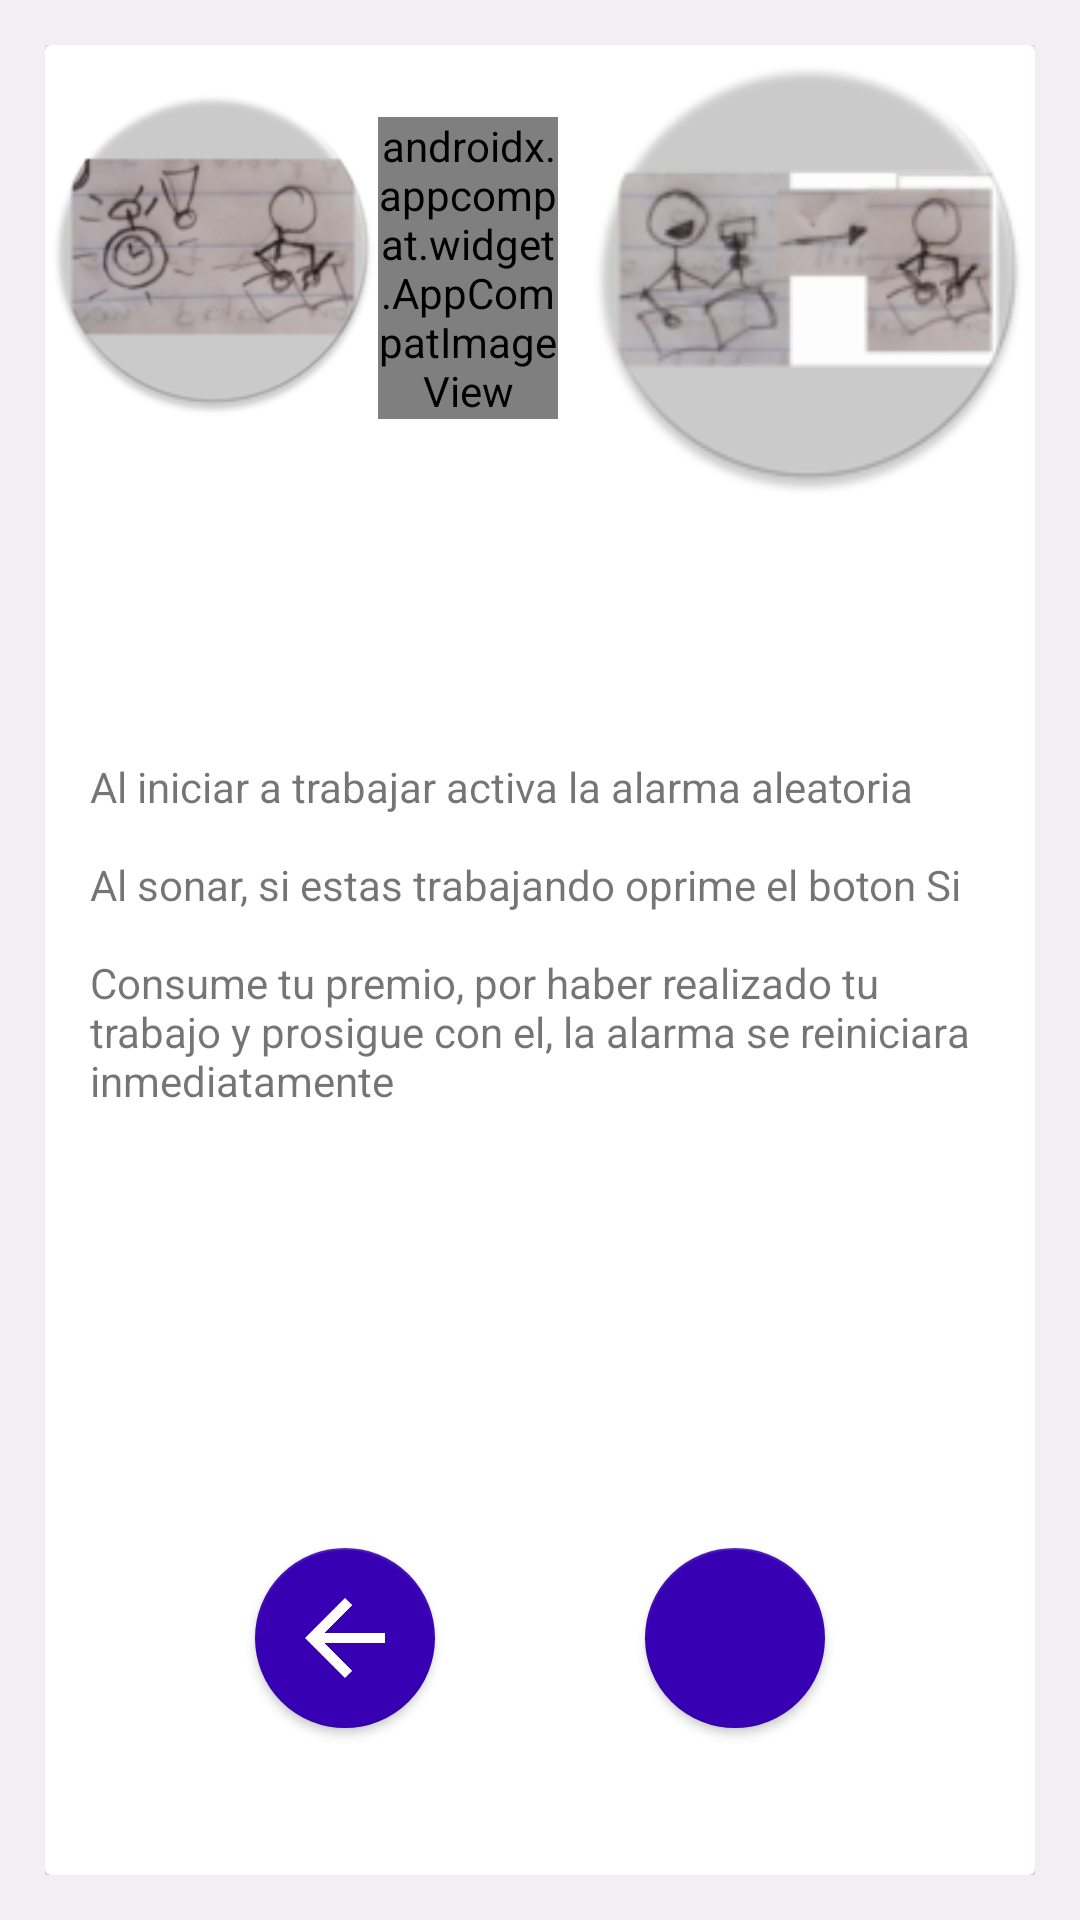

Point at icon controls on the screen. Image size 1080×1920, points as (x,y).
arrow back: (345,1638)
